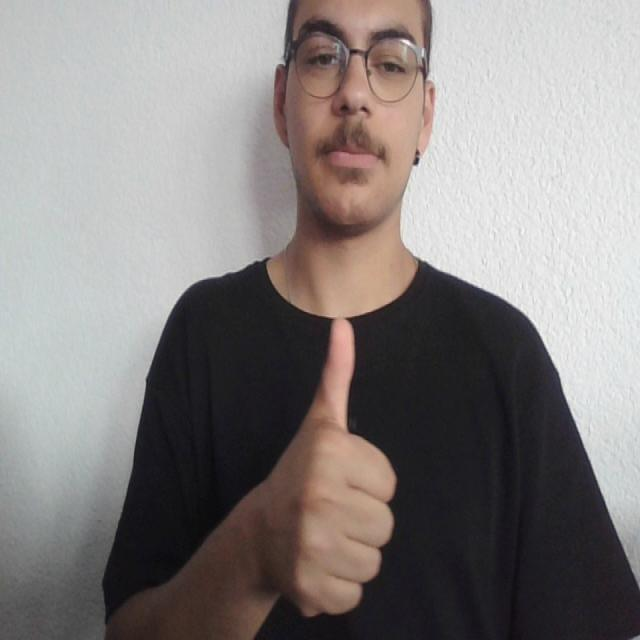Tamam: (254, 314, 403, 622)
